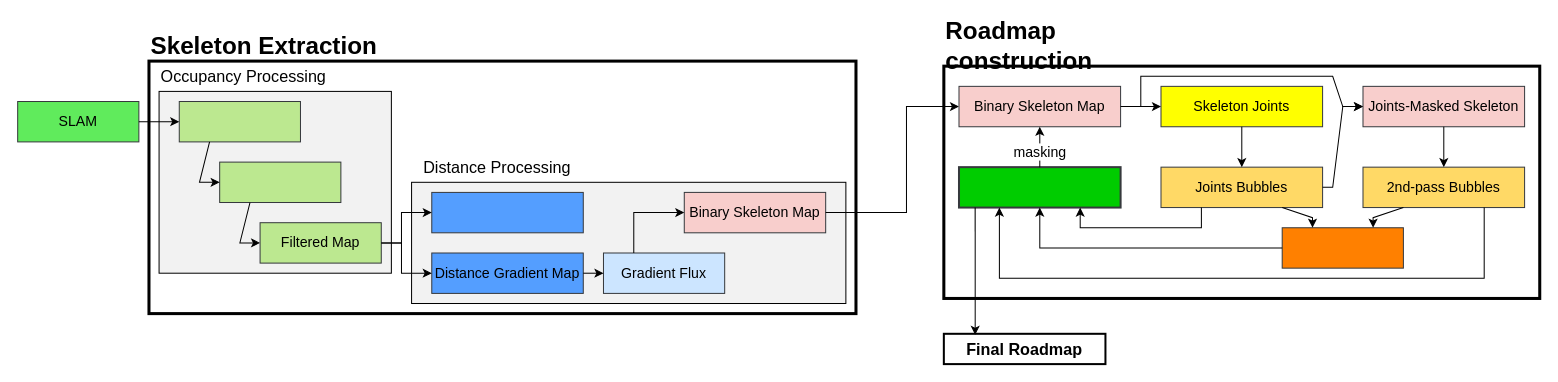
Some shapes in this 1558 by 382 pixel diagram are drawn without their labels. Each missing label, with the centre of its shape:
Binary Occ. Map: the point at 280,182
Current Disk-Graph: the point at 1039,187
Distance Map: the point at 507,212
Graph Edges: the point at 1342,247
Occupancy Map: the point at 239,121
